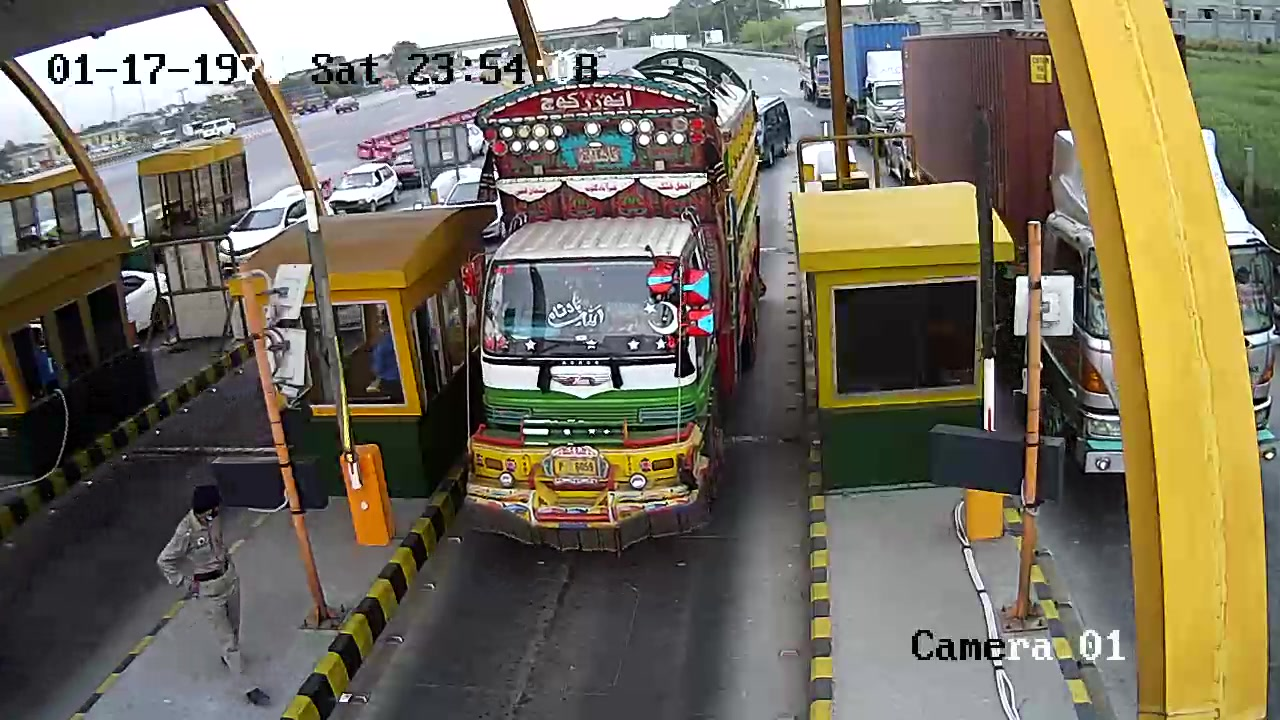F5: (450, 48, 772, 553)
